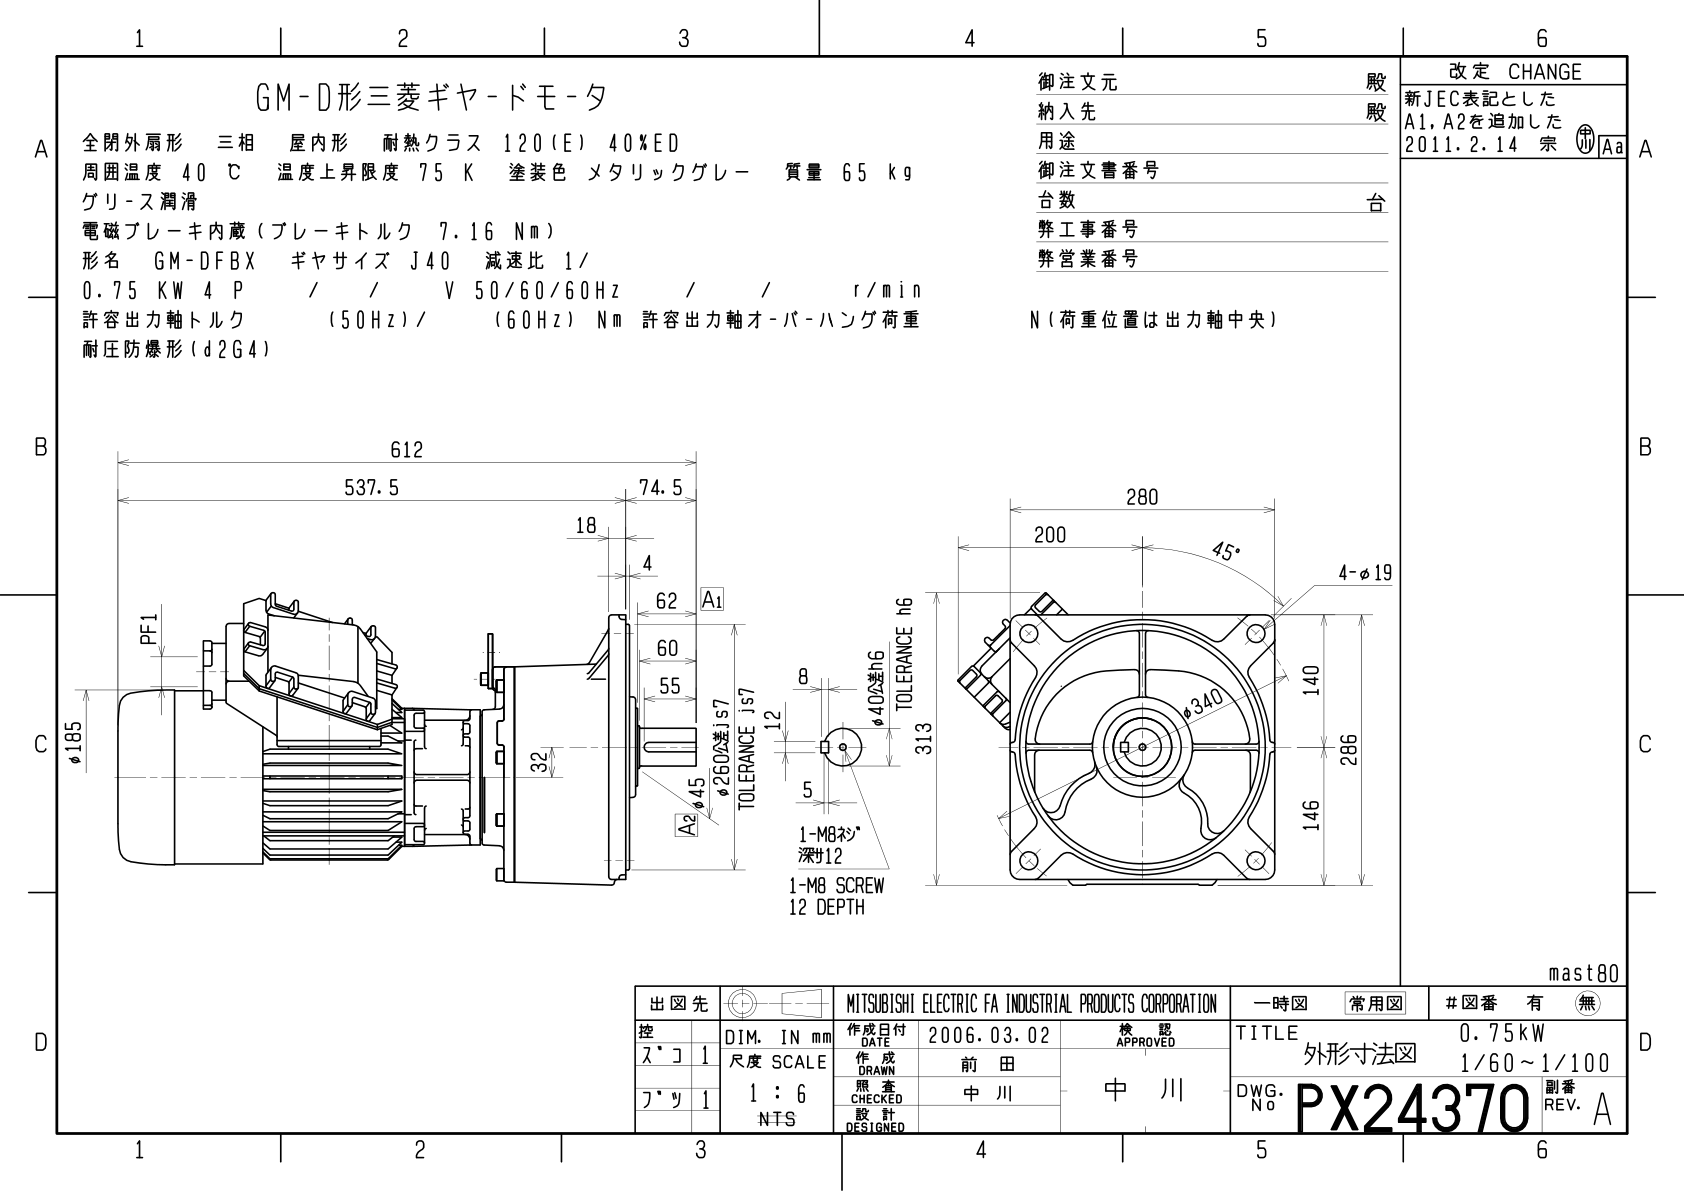GM_SP_屋内＿三相_フランジ: (61, 409, 1399, 933)
